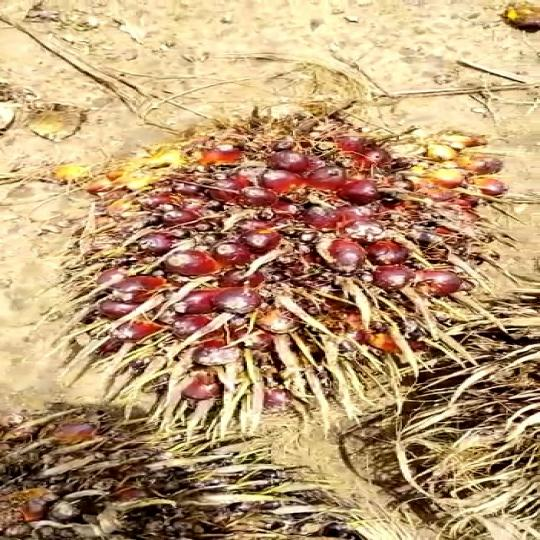masak: (35, 80, 540, 395)
